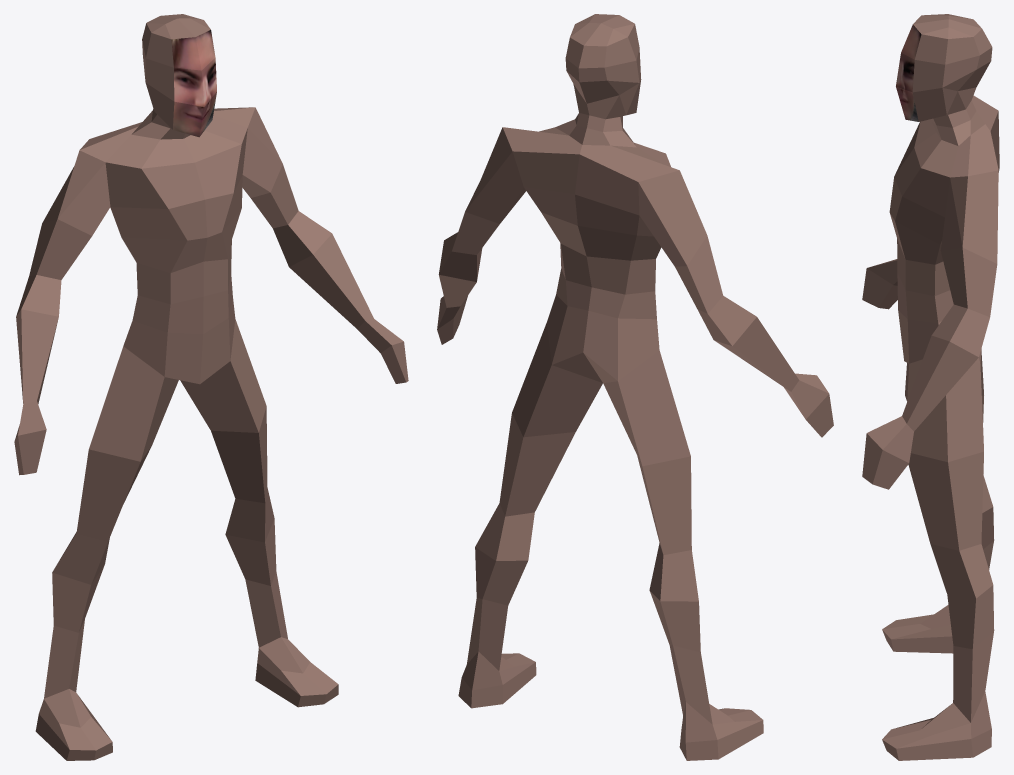
Rendered from Valtteri.fbx.
3 views of the same model, side by side, from view 1: azimuth 30°, elevation 25°; view 2: azimuth 150°, elevation 25°; view 3: azimuth 270°, elevation 25° (orthographic). The views are drawn at different scales.
Parts seen in each view (by area): view 1: BASE_Low Poly Man; view 2: BASE_Low Poly Man; view 3: BASE_Low Poly Man.
Part boxes in pixels (bbox=[...]): BASE_Low Poly Man: bbox=[14, 14, 408, 760]; BASE_Low Poly Man: bbox=[437, 14, 833, 760]; BASE_Low Poly Man: bbox=[862, 14, 999, 760].
Size of the model in its own units: 336 by 575 by 106.
